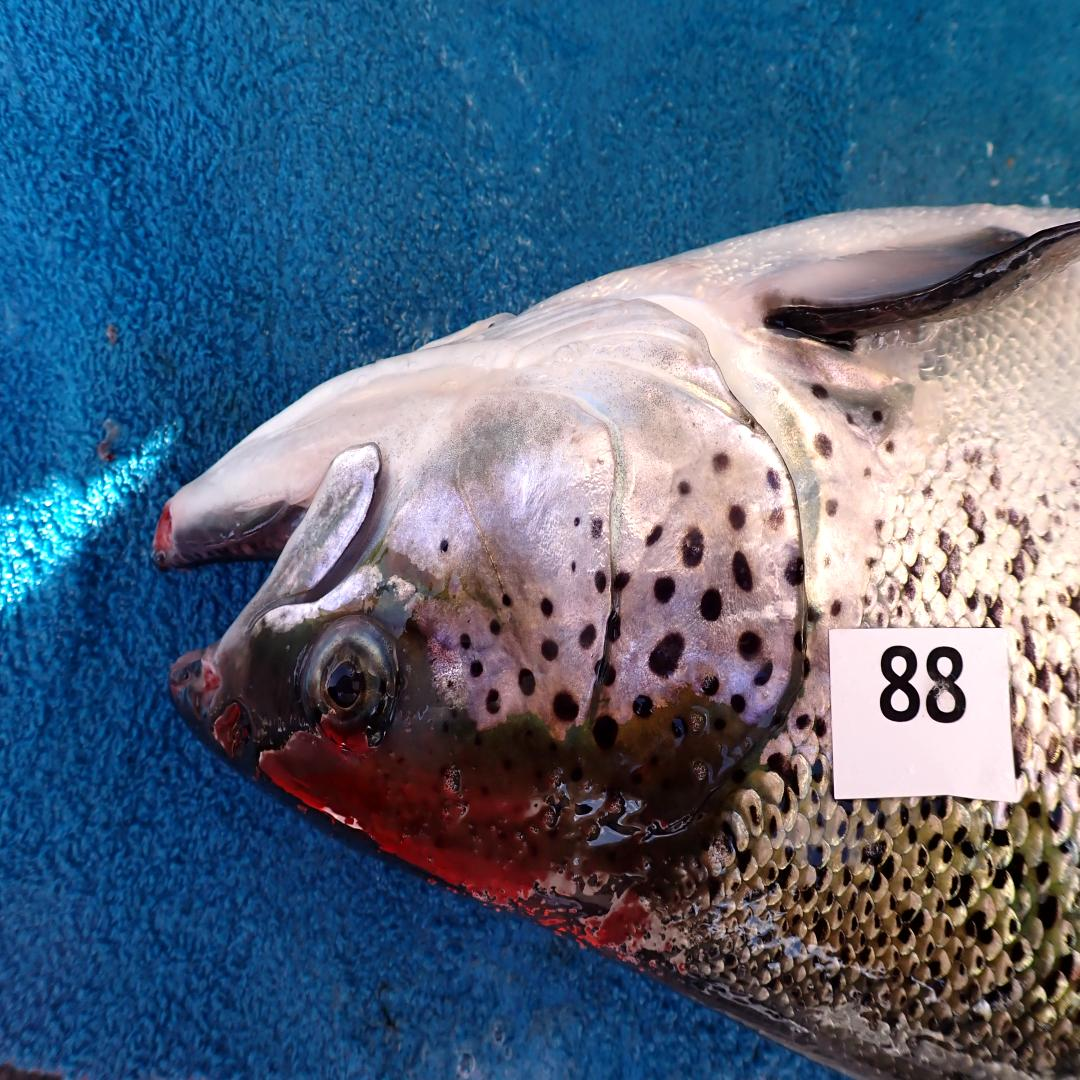roi: (391, 278, 807, 736)
